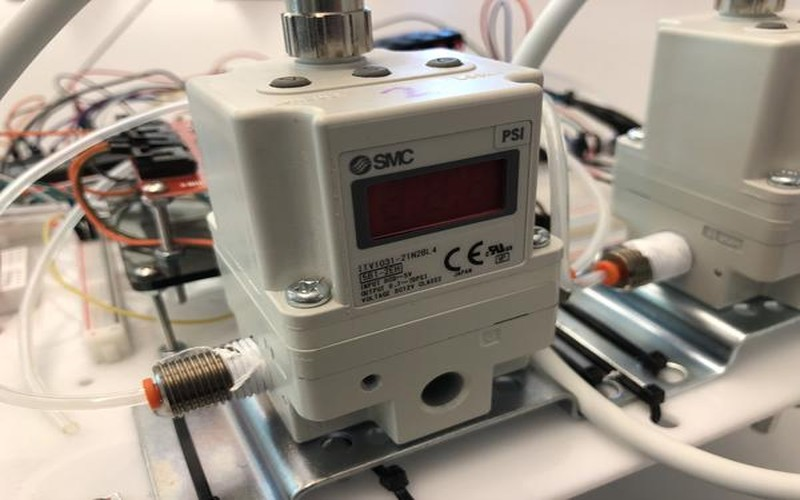Regulator: (145, 6, 597, 495)
